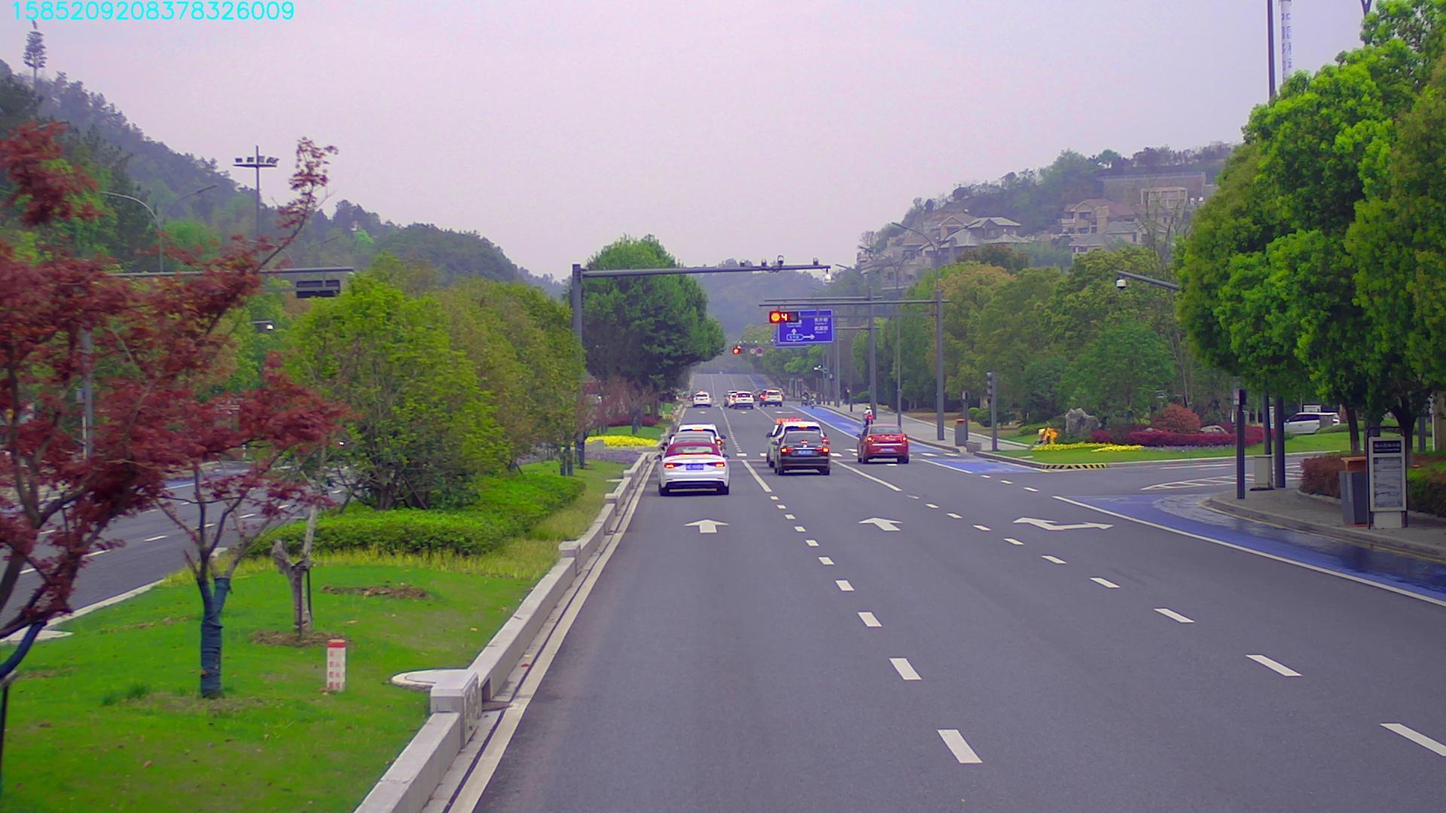red: (767, 309, 798, 321)
